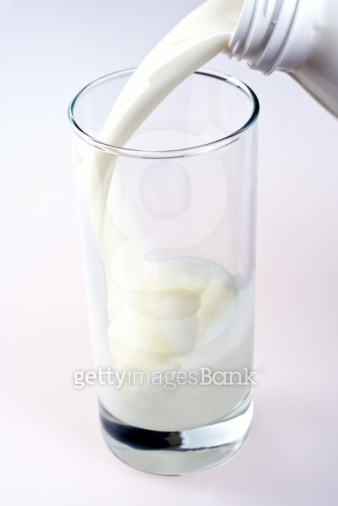glass of milk: (61, 74, 277, 477)
